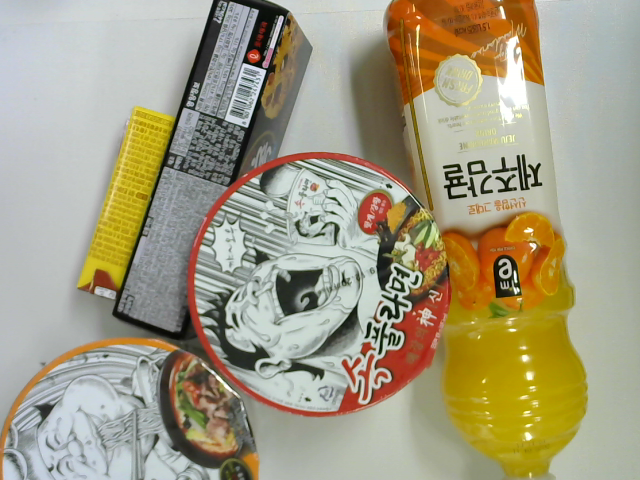Chicchok_Original_2400: (110, 1, 315, 338)
Choco_E_Mong: (73, 103, 179, 302)
Hejangchan: (1, 336, 260, 478)
Hejangpul: (187, 153, 452, 418)
Jeju_Tangerine_1.5L: (382, 1, 589, 479)
